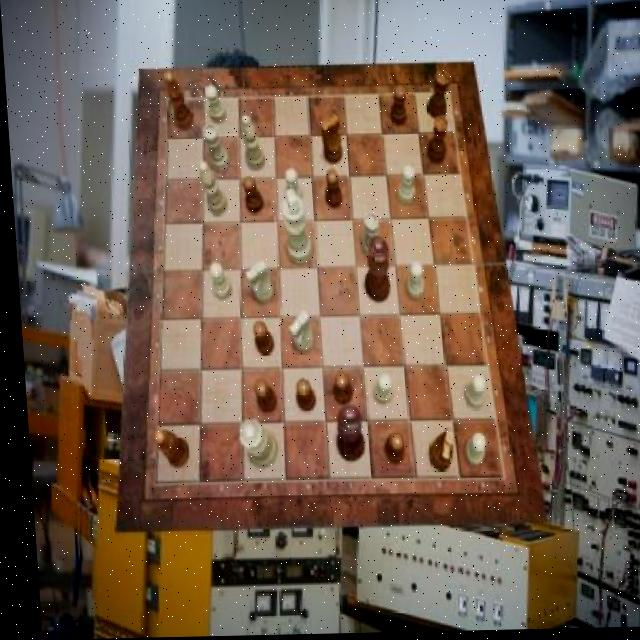bishop: (163, 72, 190, 133), (147, 429, 183, 469)
black-bishop: (328, 406, 358, 464)
black-king: (420, 429, 450, 472), (319, 116, 342, 167)
black-knight: (248, 380, 273, 415), (240, 177, 261, 216), (386, 87, 406, 127), (289, 379, 311, 414), (248, 322, 270, 357), (320, 171, 339, 210), (377, 433, 399, 466), (327, 373, 348, 407)
black-pawn: (358, 238, 389, 304)
black-queen: (423, 72, 450, 122), (422, 117, 448, 166)
black-rook: (196, 161, 224, 216), (238, 116, 263, 172)
white-bishop: (276, 190, 308, 267)
white-king: (241, 260, 270, 303), (284, 312, 310, 355)
white-knight: (202, 85, 224, 124), (393, 168, 414, 207), (456, 434, 480, 468), (207, 264, 228, 301), (458, 377, 480, 412), (401, 262, 421, 300), (282, 170, 301, 207), (367, 375, 388, 406)
white-pawn: (231, 420, 271, 469)
white-queen: (199, 125, 226, 173), (355, 214, 377, 260)
